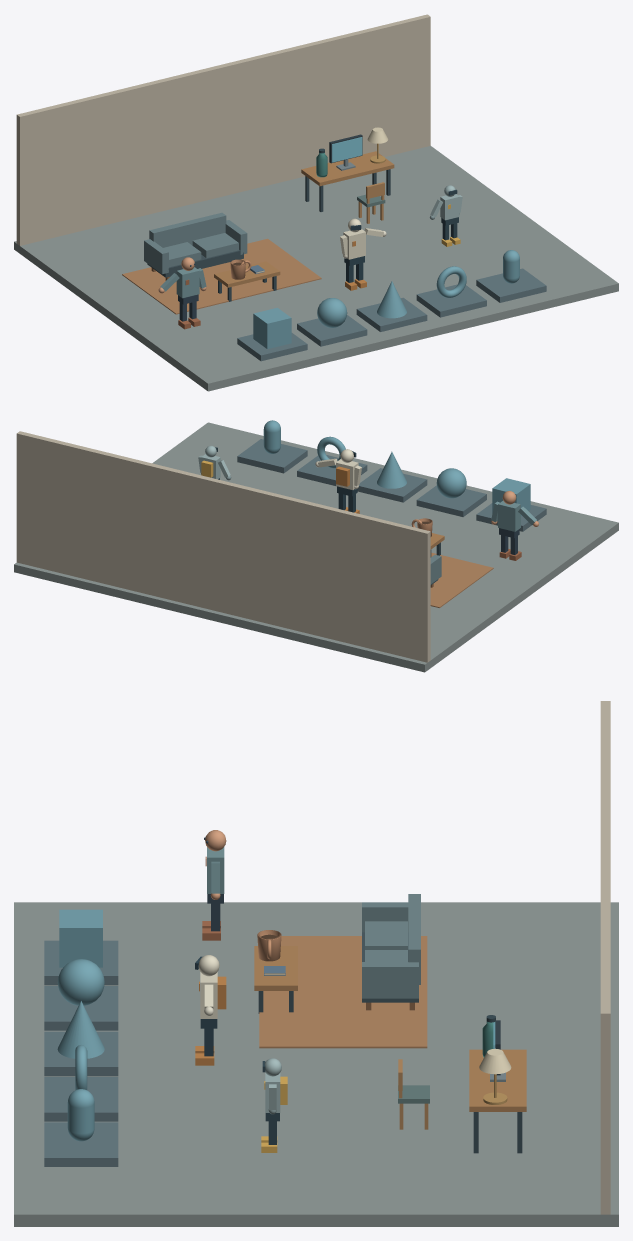
Rendered from assetStudio.glb.
The picture shows the model from 3 angles, top to bottom: view 1: azimuth 30°, elevation 25°; view 2: azimuth 150°, elevation 25°; view 3: azimuth 270°, elevation 25°; orthographic projection. The views are drawn at different scales.
Parts seen in each view (by area): view 1: assetStudio/floor, assetStudio/backdrop, assetStudio/rug, assetStudio/sofa/back, assetStudio/desk/top, assetStudio/plinths/4, assetStudio/box/body, assetStudio/plinths/3, assetStudio/plinths/1, assetStudio/plinths/2, assetStudio/plinths/0, assetStudio/sofa/seats/1 (+11 smaller); view 2: assetStudio/backdrop, assetStudio/floor, assetStudio/rug, assetStudio/plinths/4, assetStudio/plinths/1, assetStudio/plinths/2, assetStudio/box/body, assetStudio/plinths/3, assetStudio/sphere/body, assetStudio/cone/body, assetStudio/host/torso, assetStudio/plinths/0 (+2 smaller); view 3: assetStudio/floor, assetStudio/rug, assetStudio/backdrop, assetStudio/plinths/4, assetStudio/desk/top, assetStudio/plinths/3, assetStudio/box/body, assetStudio/plinths/1, assetStudio/plinths/2, assetStudio/sofa/arms/1, assetStudio/sphere/body, assetStudio/plinths/0 (+6 smaller).
Boxes of the visible parts, x1,y1,x2,y2 form: assetStudio/floor: [14, 146, 618, 391]; assetStudio/backdrop: [16, 14, 430, 245]; assetStudio/rug: [122, 238, 321, 314]; assetStudio/sofa/back: [149, 212, 226, 247]; assetStudio/desk/top: [301, 151, 394, 186]; assetStudio/plinths/4: [476, 268, 546, 302]; assetStudio/box/body: [253, 307, 291, 348]; assetStudio/plinths/3: [416, 284, 486, 317]; assetStudio/plinths/1: [297, 315, 367, 346]; assetStudio/plinths/2: [356, 297, 427, 331]; assetStudio/plinths/0: [237, 333, 307, 361]; assetStudio/sofa/seats/1: [192, 233, 238, 258]; assetStudio/backdrop: [16, 431, 430, 662]; assetStudio/floor: [14, 422, 618, 672]; assetStudio/rug: [430, 552, 493, 607]; assetStudio/plinths/4: [237, 439, 307, 473]; assetStudio/plinths/1: [416, 485, 486, 516]; assetStudio/plinths/2: [357, 468, 427, 502]; assetStudio/box/body: [492, 478, 530, 515]; assetStudio/plinths/3: [297, 455, 367, 485]; assetStudio/sphere/body: [436, 468, 466, 498]; assetStudio/cone/body: [377, 451, 406, 488]; assetStudio/host/torso: [498, 501, 520, 531]; assetStudio/plinths/0: [476, 503, 546, 531]; assetStudio/floor: [14, 902, 618, 1226]; assetStudio/rug: [259, 936, 427, 1048]; assetStudio/backdrop: [600, 701, 610, 1214]; assetStudio/plinths/4: [44, 1122, 118, 1166]; assetStudio/desk/top: [469, 1049, 526, 1111]; assetStudio/plinths/3: [44, 1077, 118, 1121]; assetStudio/box/body: [59, 909, 102, 967]; assetStudio/plinths/1: [44, 986, 118, 1030]; assetStudio/plinths/2: [44, 1031, 118, 1076]; assetStudio/sofa/arms/1: [362, 962, 418, 998]; assetStudio/sphere/body: [57, 959, 104, 1005]; assetStudio/plinths/0: [44, 940, 118, 985].
Size of the model in its own units: 11 by 3.5 by 9.
